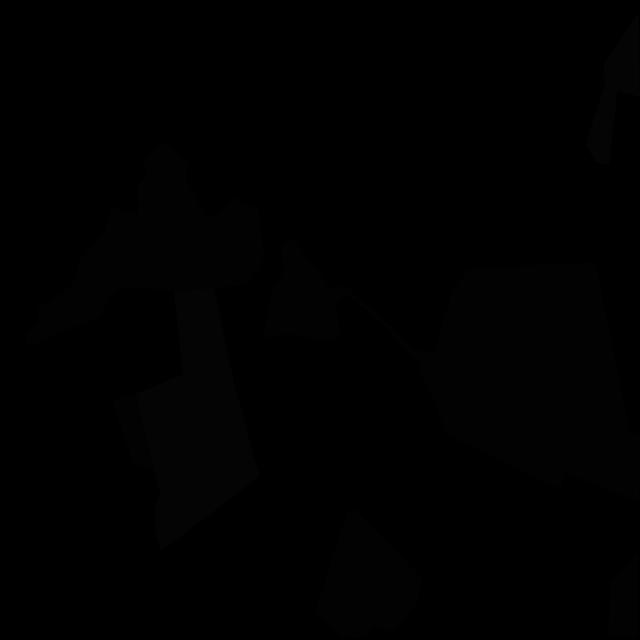cardboard: (263, 237, 640, 502), (26, 206, 182, 346), (137, 143, 264, 291), (315, 508, 422, 639), (112, 394, 155, 473), (608, 553, 638, 638)
soft_plastic: (136, 288, 260, 551), (586, 12, 640, 164)
